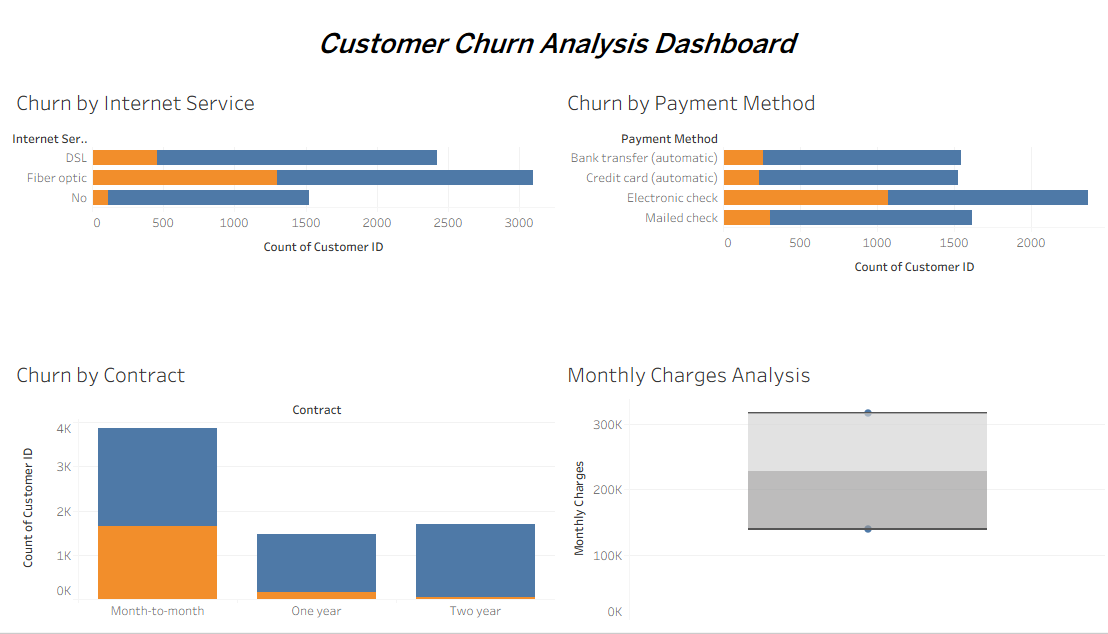

This screenshot's page, from the dashboard's own definition file:
{"tool":"tableau","page":{"name":"Dashboard 1","canvas":[1000,1000],"units":"permille","ordinal":0},"visuals":[{"type":"text","box":[7.4,12.7,985.1,113.9]},{"type":"worksheet","title":"Churn by Internet Service","mark":"Automatic","rows":["InternetService"],"cols":["customerID"],"box":[7.4,126.6,418.3,430.4]},{"type":"worksheet","title":"Churn by Payment Method","mark":"Automatic","rows":["PaymentMethod"],"cols":["customerID"],"box":[425.7,126.6,418.3,430.4]},{"type":"legend","title":"Churn by Contract","param":"[federated.18j5ar81r76dva11dwmpt1xdwpub].[none:Churn:nk]","box":[844,126.6,148.6,104.4]},{"type":"worksheet","title":"Churn by Contract","mark":"Automatic","rows":["customerID"],"cols":["Contract"],"box":[7.4,557,418.3,430.4]},{"type":"worksheet","title":"Monthly Charges Analysis","mark":"Circle","rows":["MonthlyCharges"],"box":[425.7,557,418.3,430.4]}]}

Visuals, with their boxes on the dashboard's canvas, which has no fixed pixel size, in thousandths of its width and height (x1, y1, x2, y2). These are canvas units, not pixel positions in the 1108x634 screenshot, which may show the page scaled, cropped or inside an application window:
text: left=7, top=13, right=992, bottom=127
"Churn by Internet Service" worksheet: left=7, top=127, right=426, bottom=557
"Churn by Payment Method" worksheet: left=426, top=127, right=844, bottom=557
"Churn by Contract" legend: left=844, top=127, right=993, bottom=231
"Churn by Contract" worksheet: left=7, top=557, right=426, bottom=987
"Monthly Charges Analysis" worksheet (Circle marks): left=426, top=557, right=844, bottom=987
